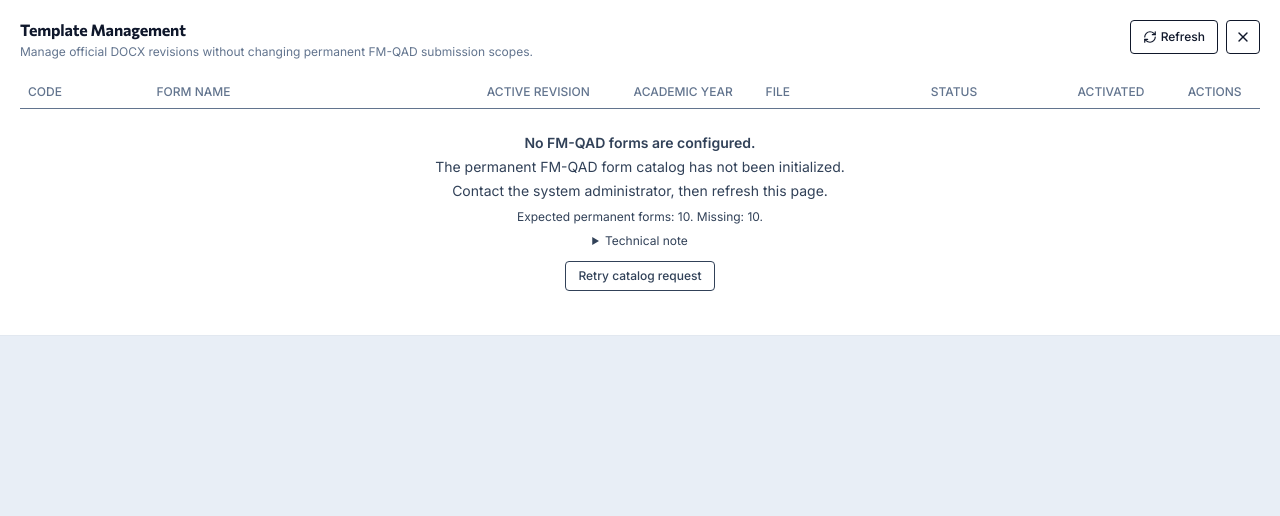
Test case: MonitorFmQadTemplateManager › shows uninitialized catalog guidance and retries successfully
Expected: the text "No FM-QAD forms are configured." is shown, top-left (524, 134), bottom-right (756, 151)
Expected: the text "Expected permanent forms: 10. Missing: 10." is shown, top-left (517, 209), bottom-right (763, 224)
Click the button "Retry catalog request" at coordinates (640, 276), box top-left (566, 261), bottom-right (715, 291)
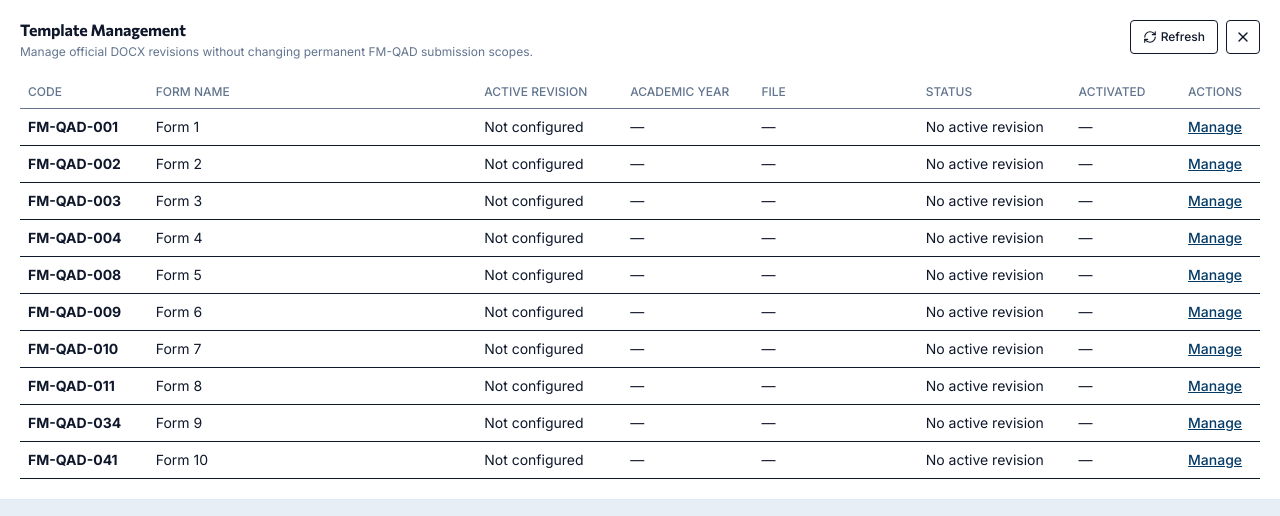
Expected: the text "FM-QAD-001" is shown, top-left (20, 108), bottom-right (148, 146)
